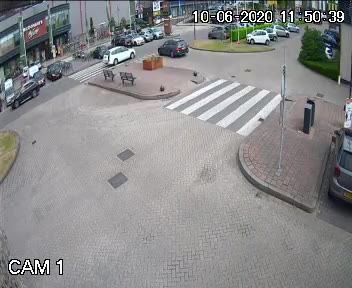car: (6, 80, 42, 109), (155, 36, 193, 58), (96, 44, 134, 64)
